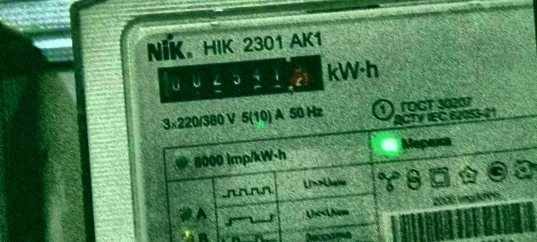0: (168, 70, 183, 92), (189, 67, 203, 88)
1: (270, 59, 283, 83)
2: (209, 64, 225, 87)
4: (250, 60, 262, 82)
5: (229, 63, 244, 87)
6: (293, 73, 305, 86)
screen: (144, 43, 337, 111)
